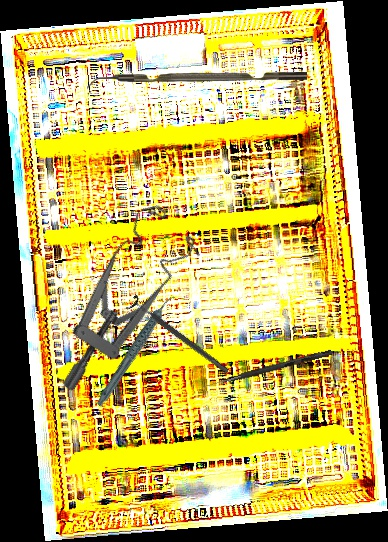Chopper: (87, 72, 307, 91)
Fixation Ring: (124, 293, 234, 380)
Handpiece: (77, 293, 196, 409)
Hook Surgical: (202, 347, 333, 392)
Speculum: (6, 194, 225, 394)
